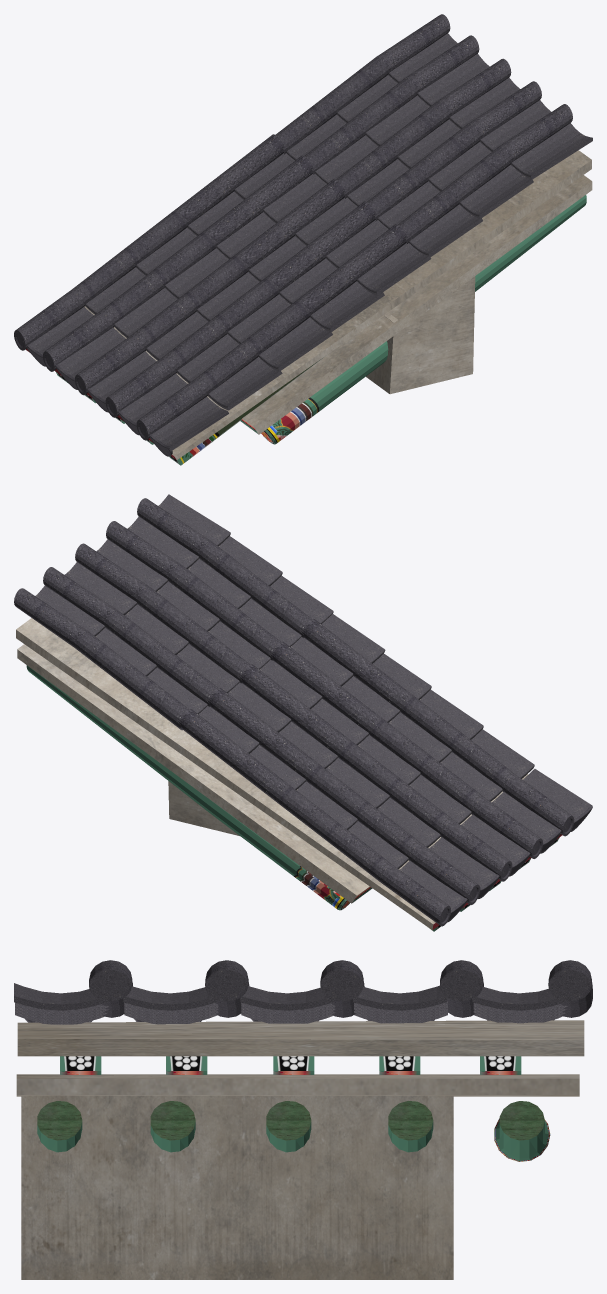
The model's file is SM_Roof_26.fbx.
3 renders of one model, top to bottom at view 1: azimuth 30°, elevation 25°; view 2: azimuth 150°, elevation 25°; view 3: azimuth 270°, elevation 25°, orthographic. The views are drawn at different scales.
Visible parts, largest first — view 1: SM_Roof_26; view 2: SM_Roof_26; view 3: SM_Roof_26.
Boxes of the visible parts, <box> form: SM_Roof_26: <box>14,14,592,465</box>; SM_Roof_26: <box>14,494,592,931</box>; SM_Roof_26: <box>14,960,592,1279</box>.
Bounding box in the file's own units: 538 × 339 × 306.
4 materials, 4 textured.
